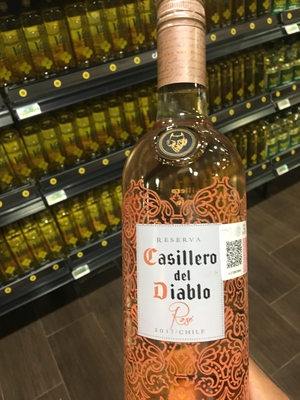casillero del diablo rose: (114, 12, 265, 388)
